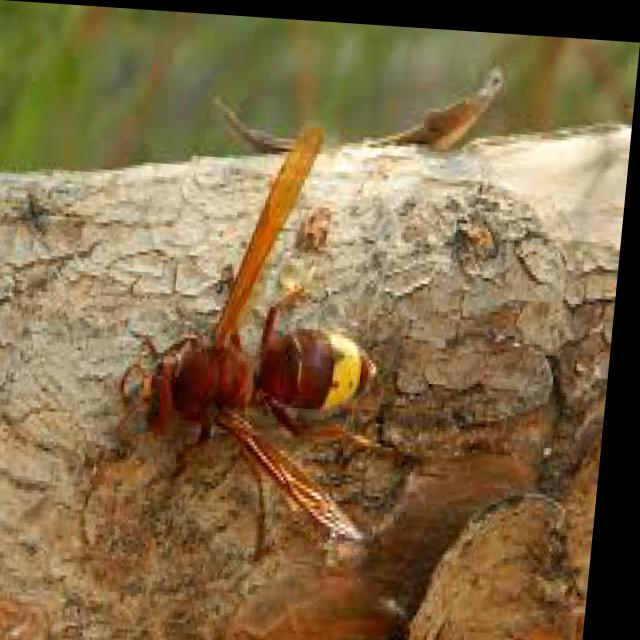Vespa Orientalis: (74, 95, 442, 587)
